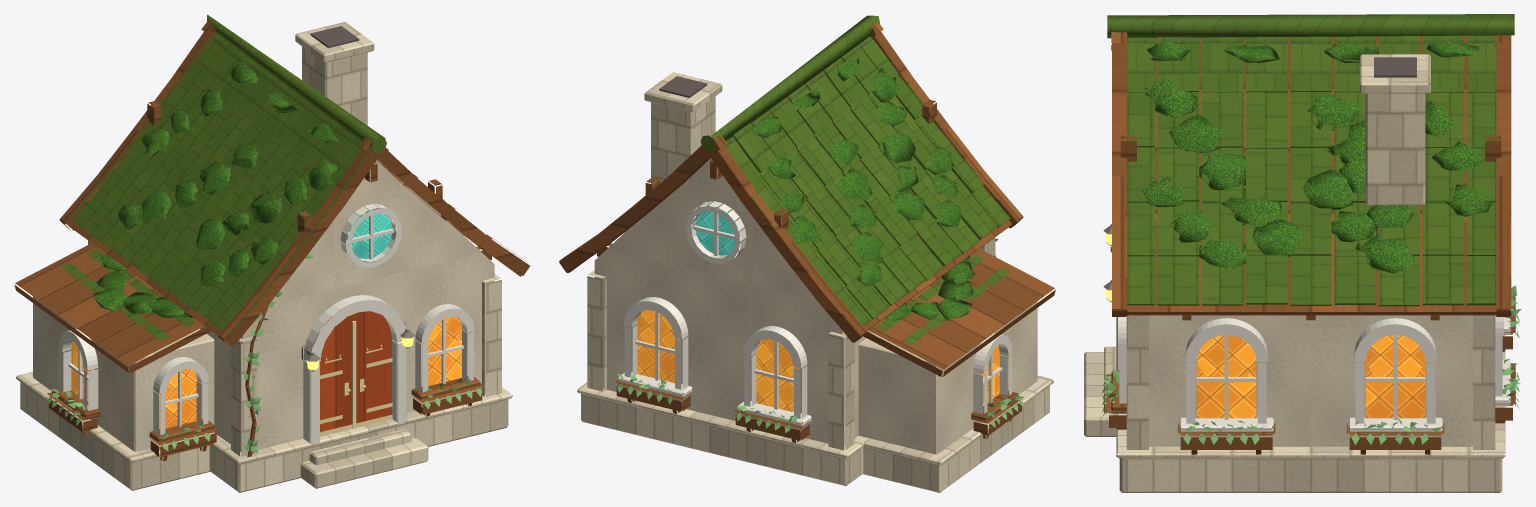
The model's file is cottage-moss.glb.
The picture shows the model from 3 angles, left to right: view 1: azimuth 30°, elevation 25°; view 2: azimuth 150°, elevation 25°; view 3: azimuth 270°, elevation 25°; orthographic projection. The views are drawn at different scales.
Parts seen in each view (by area): view 1: cottage-moss; view 2: cottage-moss; view 3: cottage-moss.
Part boxes in pixels (<box>): cottage-moss: <box>14,14,529,492</box>; cottage-moss: <box>559,15,1055,492</box>; cottage-moss: <box>1084,14,1521,492</box>.
Bounding box in the file's own units: 6.46 × 5.3 × 5.29.
16 materials, 8 textured.
